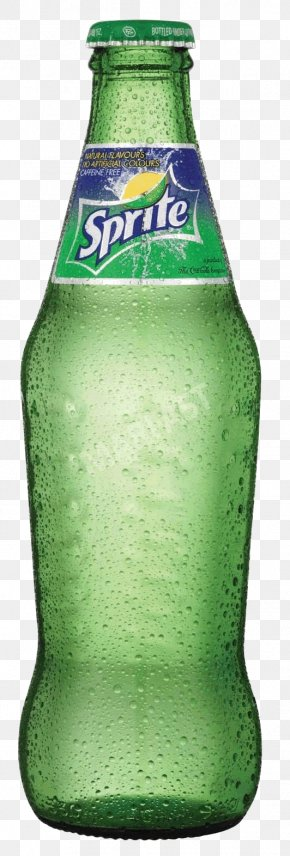sprite_bottle: (21, 18, 264, 841)
